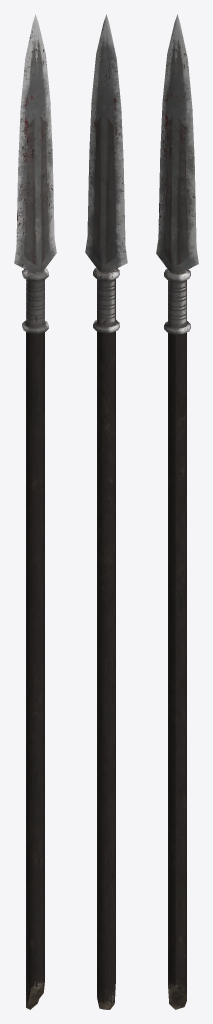
The picture shows the model from 3 angles, left to right: view 1: azimuth 30°, elevation 25°; view 2: azimuth 150°, elevation 25°; view 3: azimuth 330°, elevation 25°; orthographic projection.
Visible parts, largest first — view 1: SM_LothricLongSpear02_LOD0; view 2: SM_LothricLongSpear02_LOD0; view 3: SM_LothricLongSpear02_LOD0.
Part boxes in pixels (box(x1,y1,x2,y2)): SM_LothricLongSpear02_LOD0: box(14, 14, 56, 1009); SM_LothricLongSpear02_LOD0: box(85, 14, 127, 1009); SM_LothricLongSpear02_LOD0: box(156, 14, 198, 1009).
Bounding box in the file's own units: 0.0749 × 1.67 × 0.0389.
1 material, 1 textured.
